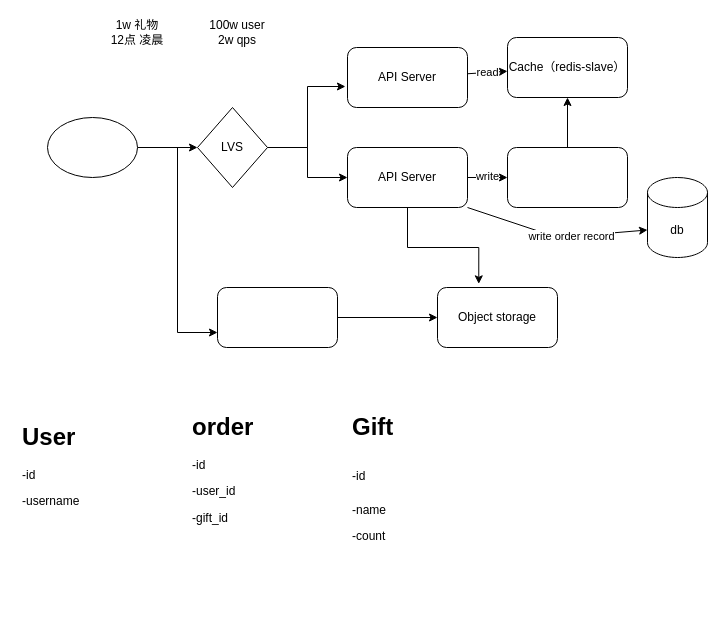
Some shapes in this 725 by 624 pixel diagram are drawn without their labels. The shapes that lost their labels are listed below. From the top down, each one's box as (x1, y1, x2, y2) in pixels, then its label:
(46, 116, 138, 178): client
(506, 146, 628, 208): Cache（redis-master）
(216, 286, 338, 348): CDN
